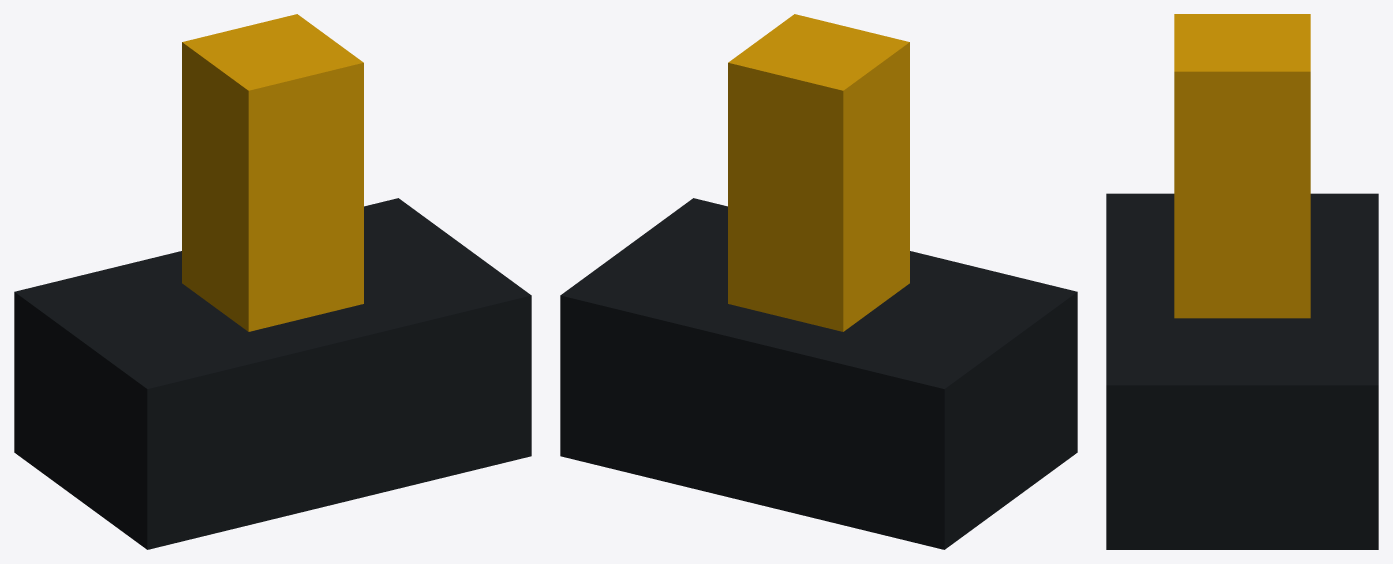
3 views of the same model, side by side, from view 1: azimuth 30°, elevation 25°; view 2: azimuth 150°, elevation 25°; view 3: azimuth 270°, elevation 25° (orthographic). The views are drawn at different scales.
Parts seen in each view (by area): view 1: base, handle; view 2: base, handle; view 3: base, handle.
Part boxes in pixels (<box>): base: <box>14,198,531,549</box>; handle: <box>182,14,363,331</box>; base: <box>560,198,1077,549</box>; handle: <box>728,14,909,331</box>; base: <box>1106,193,1378,549</box>; handle: <box>1174,14,1310,318</box>.
Bounding box in the file's own units: 0.2 × 0.2 × 0.12.
